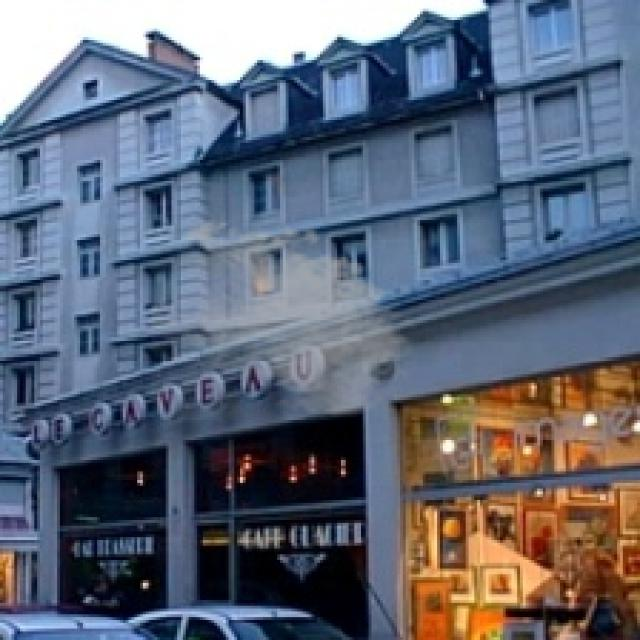smoke: (151, 214, 423, 423)
